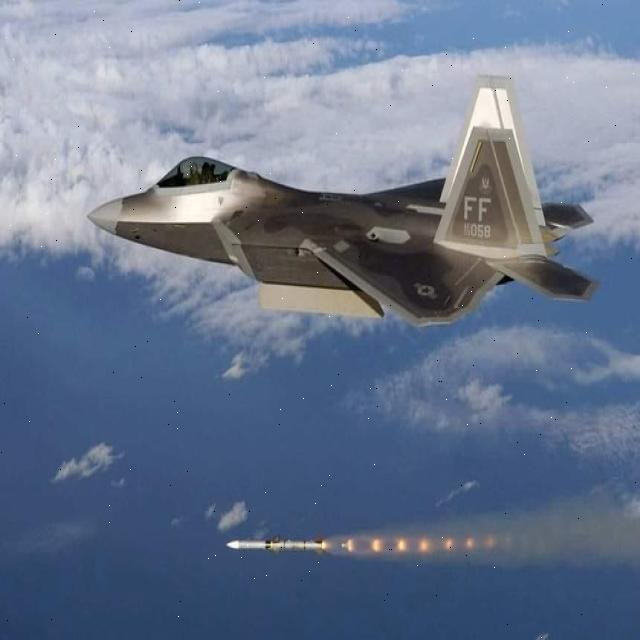F22: (75, 46, 639, 372)
